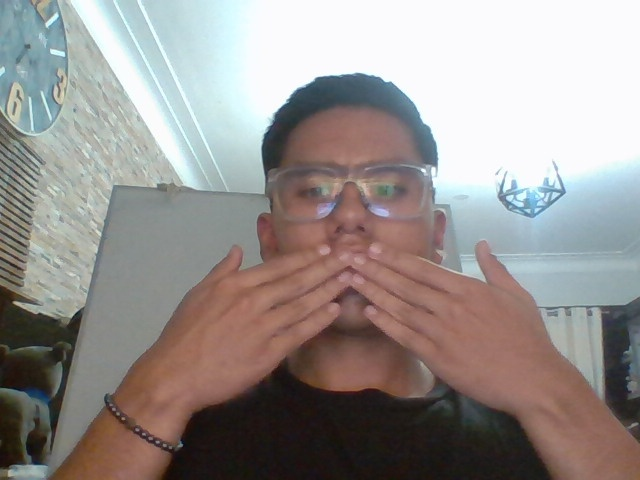Thanks: (153, 240, 591, 421)
